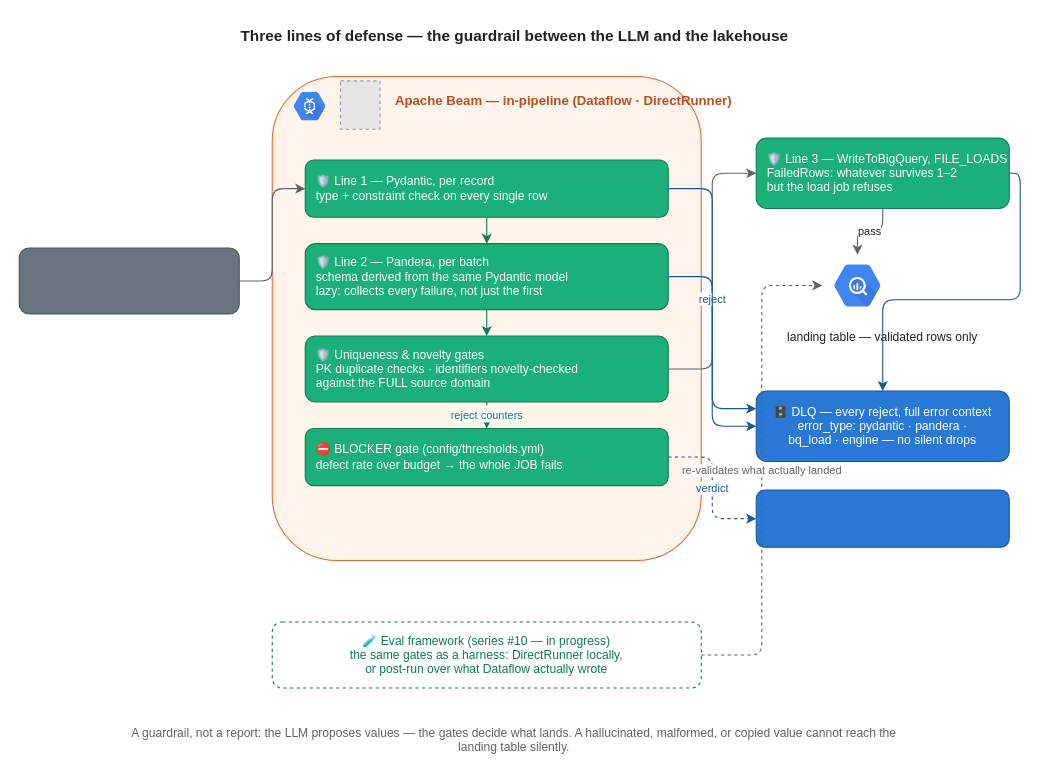
Image size: 1048x777. Some labels were removed from this diagram. Grey dashed boxes stand in for pictures. The shapes that lost their labels are listed below. From the top down, each one's centre as x and y in pixels, then its label:
[128,280]: 🐼 synthetic rows engine bulk (CPU) + LLM-routed columns (GPU)
[882,518]: 🗄️ validation_runs per-run audit row + thresholds verdict
